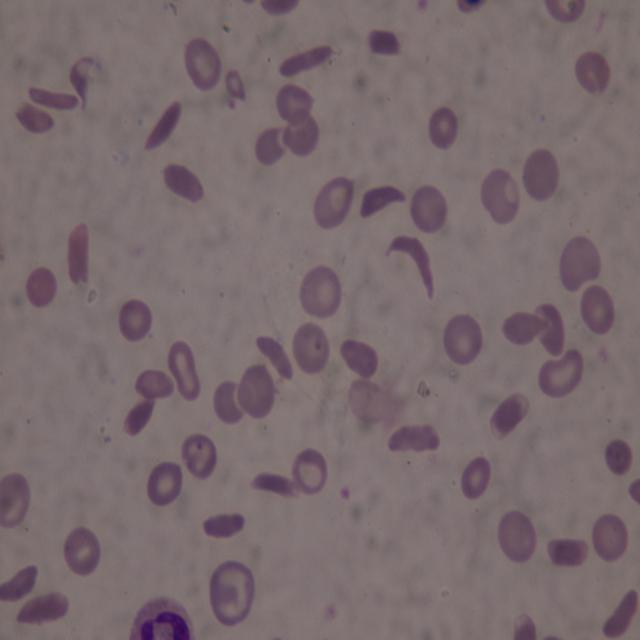Crystal: (254, 334, 296, 383), (388, 420, 440, 454), (601, 588, 635, 639), (162, 162, 204, 202), (65, 219, 88, 287), (1, 563, 40, 602), (545, 536, 589, 570), (122, 394, 155, 438), (250, 470, 298, 500), (202, 511, 247, 538)
Normal: (443, 313, 484, 364), (64, 524, 101, 576), (579, 285, 615, 336), (145, 460, 183, 507), (118, 298, 156, 343), (427, 106, 460, 151)
Others: (208, 556, 256, 626), (126, 594, 197, 640), (311, 175, 356, 231), (237, 361, 278, 421), (558, 234, 601, 290), (479, 167, 519, 227), (521, 146, 562, 202), (183, 37, 224, 92), (539, 347, 585, 396), (298, 266, 342, 317), (497, 507, 536, 564), (290, 320, 330, 374), (167, 340, 203, 400), (573, 48, 613, 98), (590, 512, 630, 562), (409, 184, 448, 233), (275, 83, 318, 127), (490, 394, 530, 441), (0, 468, 31, 526), (182, 431, 218, 480), (340, 336, 379, 381), (534, 301, 566, 355), (501, 311, 551, 345), (292, 449, 328, 496), (282, 114, 322, 156), (15, 98, 55, 136), (212, 378, 242, 426), (25, 266, 59, 308), (461, 455, 492, 501), (253, 124, 286, 167), (134, 368, 174, 401), (72, 52, 94, 110), (603, 437, 633, 477), (544, 0, 587, 26), (368, 29, 404, 57), (224, 67, 247, 105), (258, 0, 303, 19), (514, 613, 538, 640), (452, 0, 488, 15), (626, 477, 640, 506)
Sickle: (384, 232, 434, 306), (278, 43, 334, 79), (143, 99, 181, 152), (16, 589, 68, 625), (358, 182, 408, 218), (28, 84, 80, 111)
